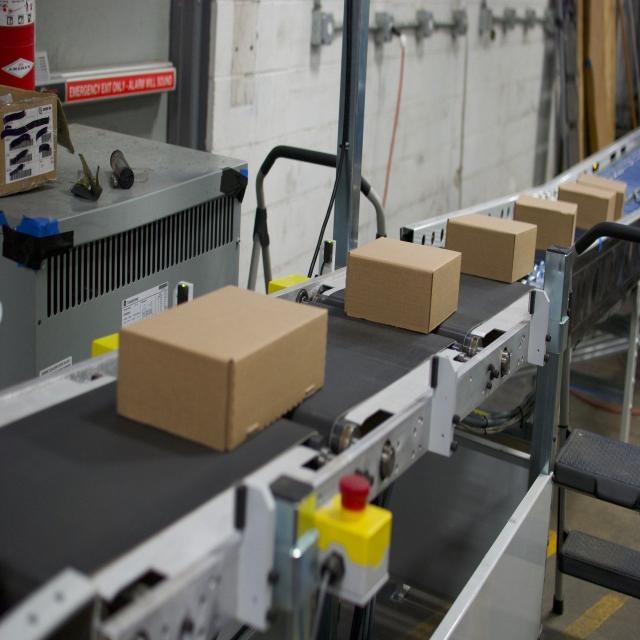food: (114, 283, 330, 453), (343, 234, 462, 336), (442, 206, 550, 290)
